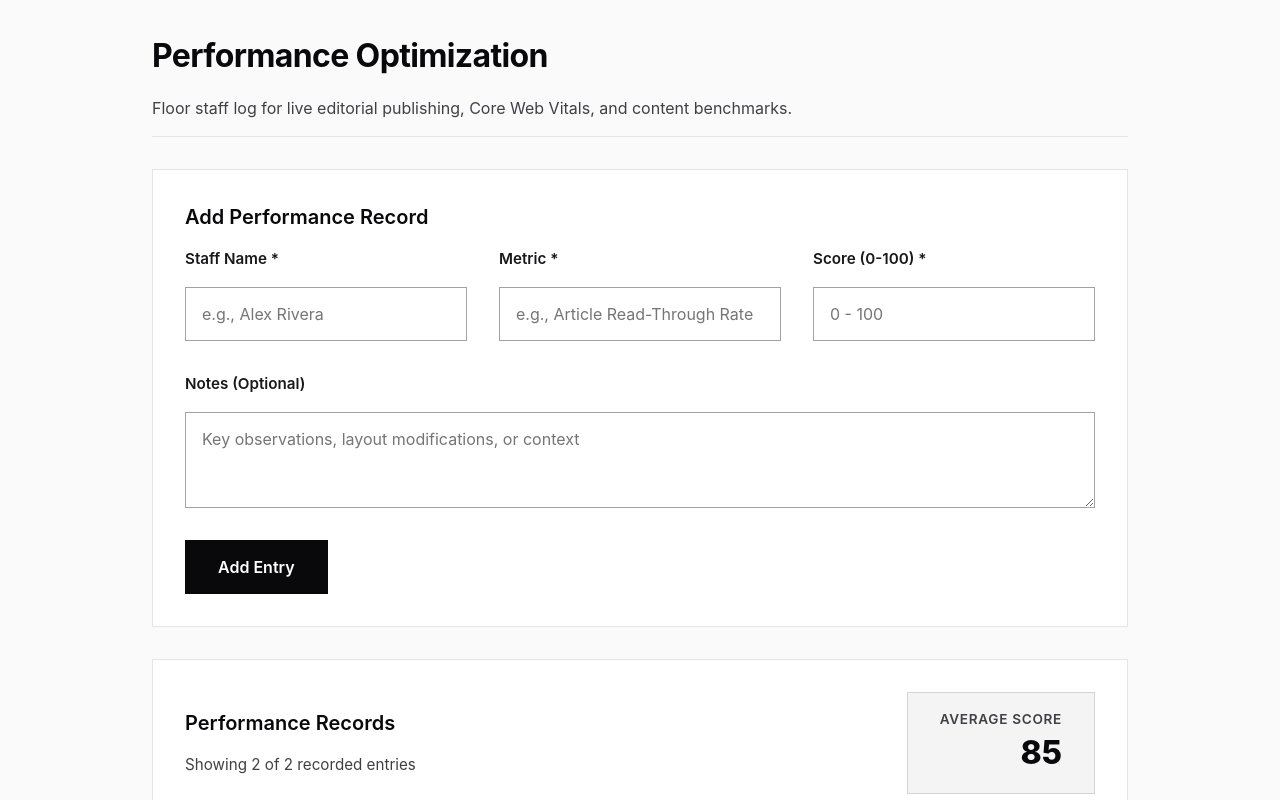
Test: PerformanceOptimization Component › 6. Security (Sanitization against XSS) › sanitizes <img onerror> payloads, backticks, and javascript: pseudo-protocols
The width and height of the screenshot is (1280, 800).
Note: Test img tag with onerror and backtick
Click the text box labelled "Notes (Optional)": (640, 460) top-left (185, 412), bottom-right (1095, 508)
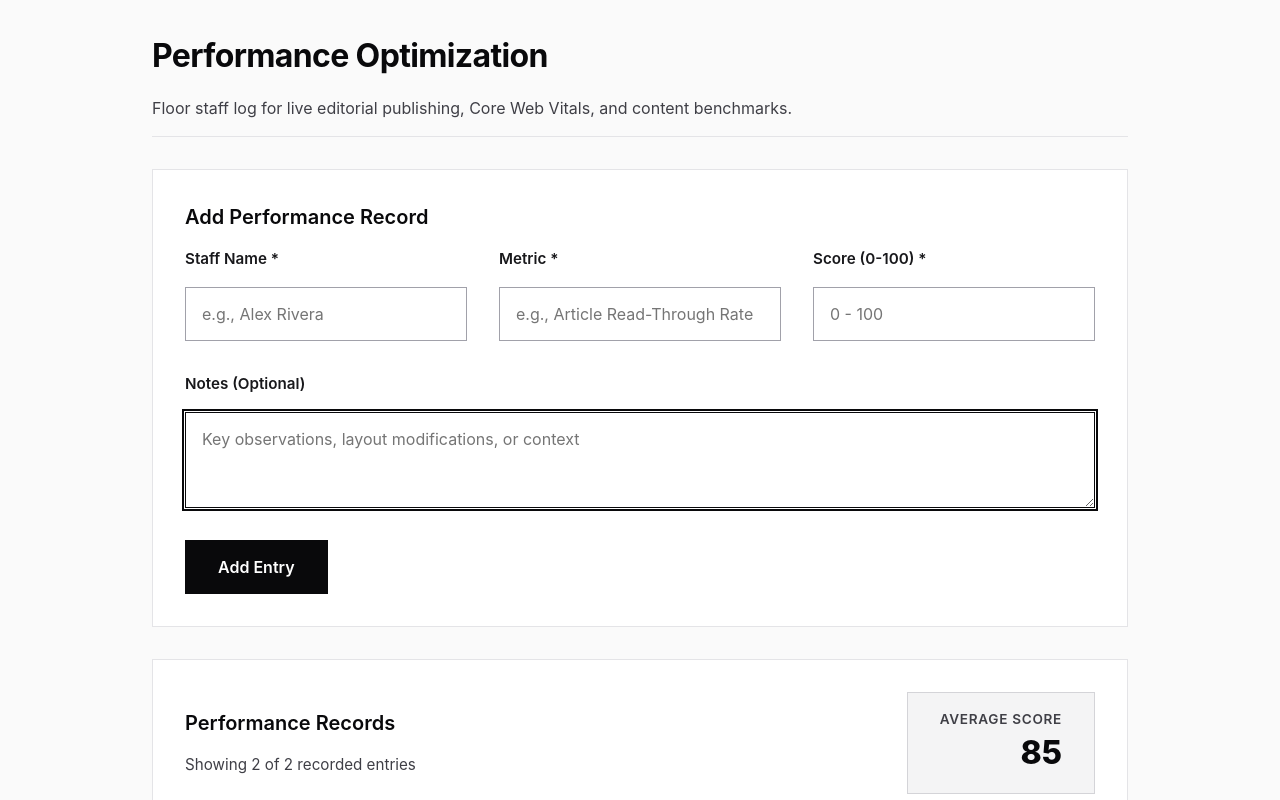
Type keys "<img src=x onerror=`alert(1)`>Clean Note"
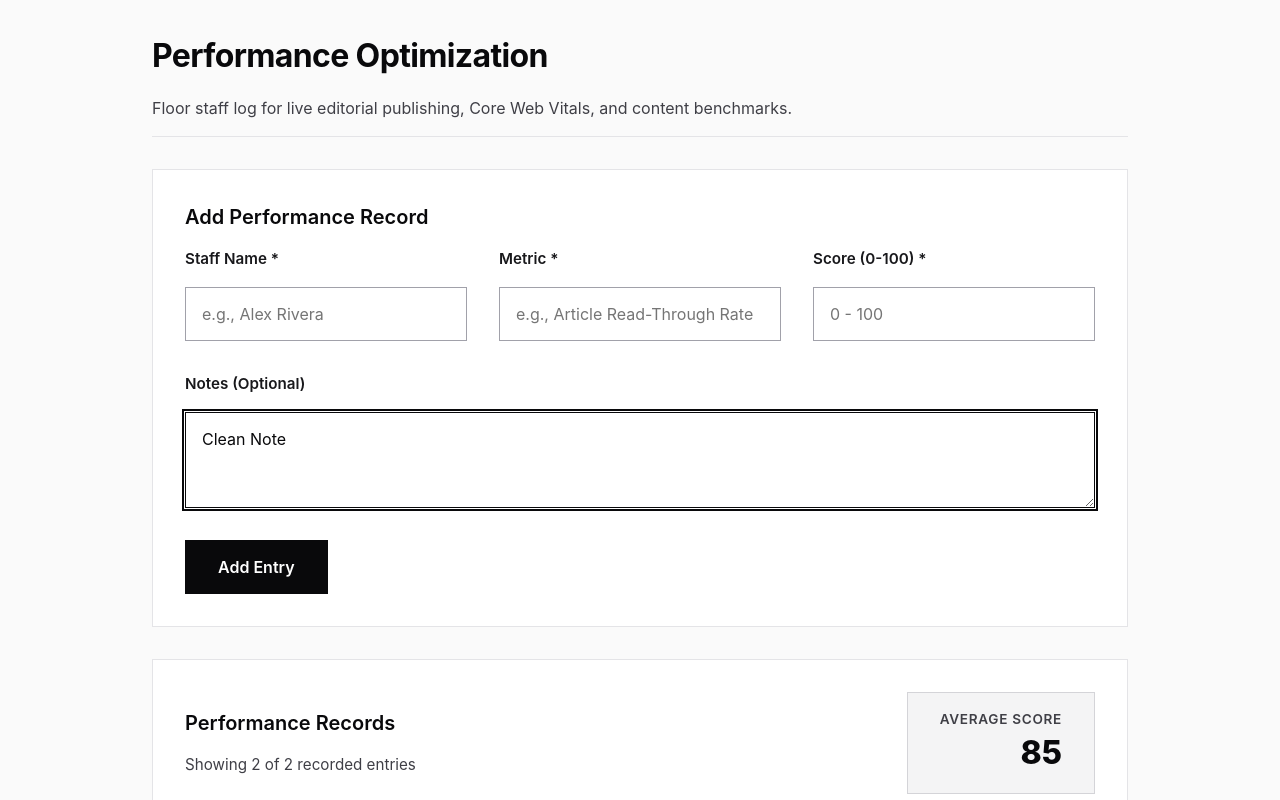
Expected: the text box labelled "Notes (Optional)" holds "Clean Note", top-left (185, 412), bottom-right (1095, 508)
Note: Test javascript: protocol
Click the field labelled "Metric *": (640, 314) top-left (499, 287), bottom-right (781, 341)
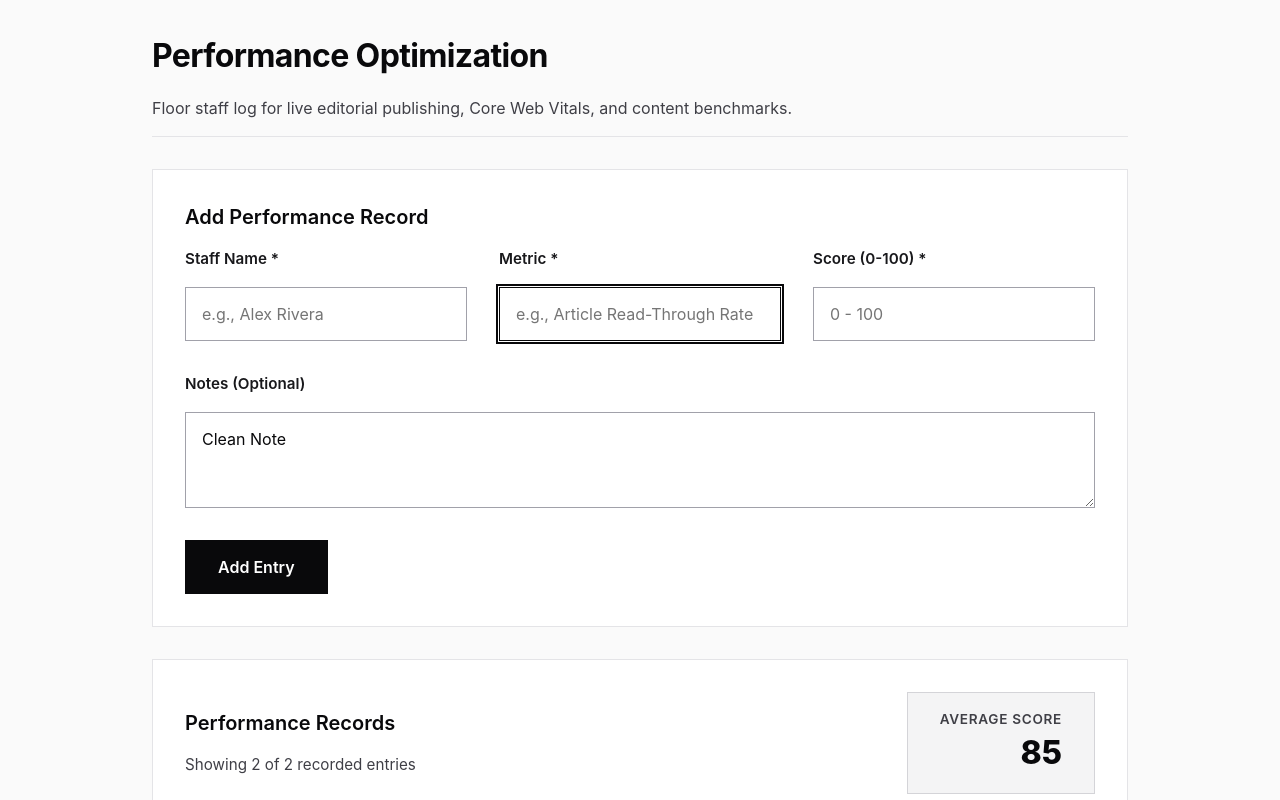
Type keys "javascript:alert(1)Speed"
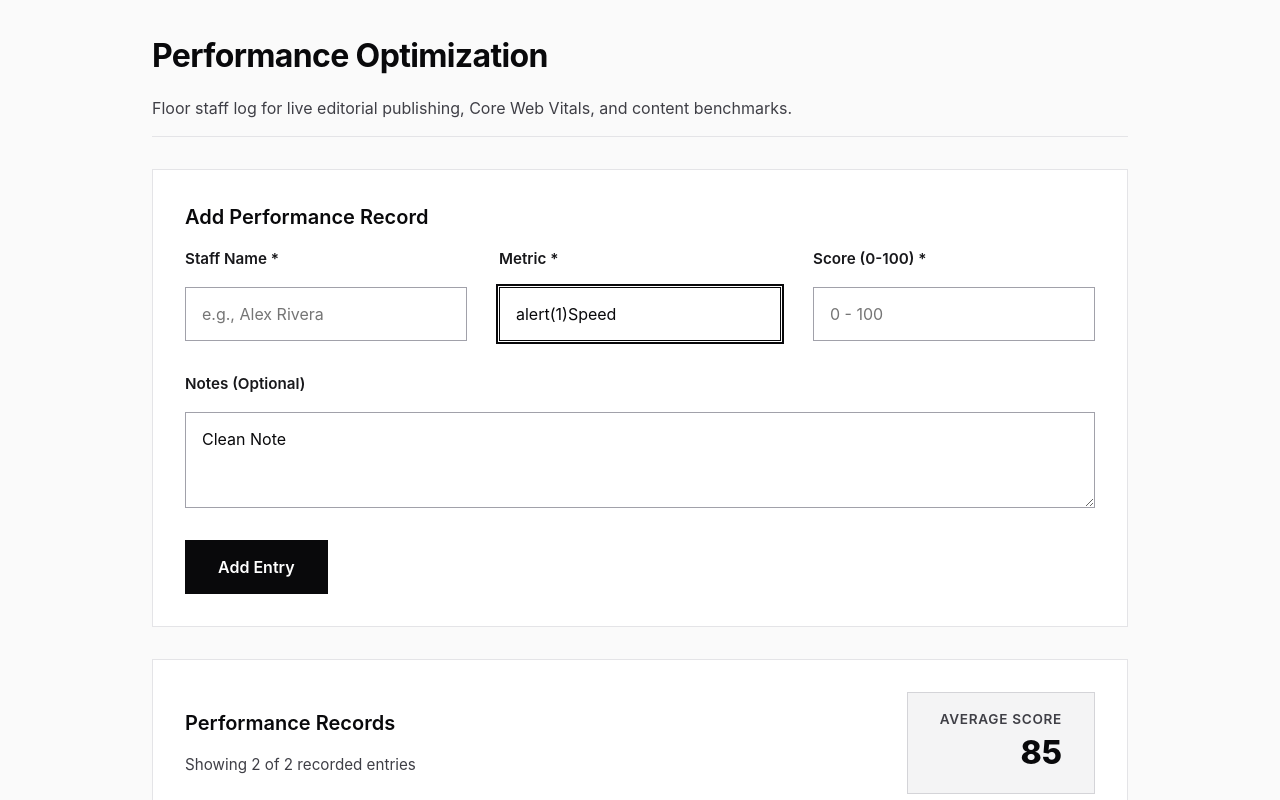
Expected: the field labelled "Metric *" holds "alert(1)Speed", top-left (499, 287), bottom-right (781, 341)
